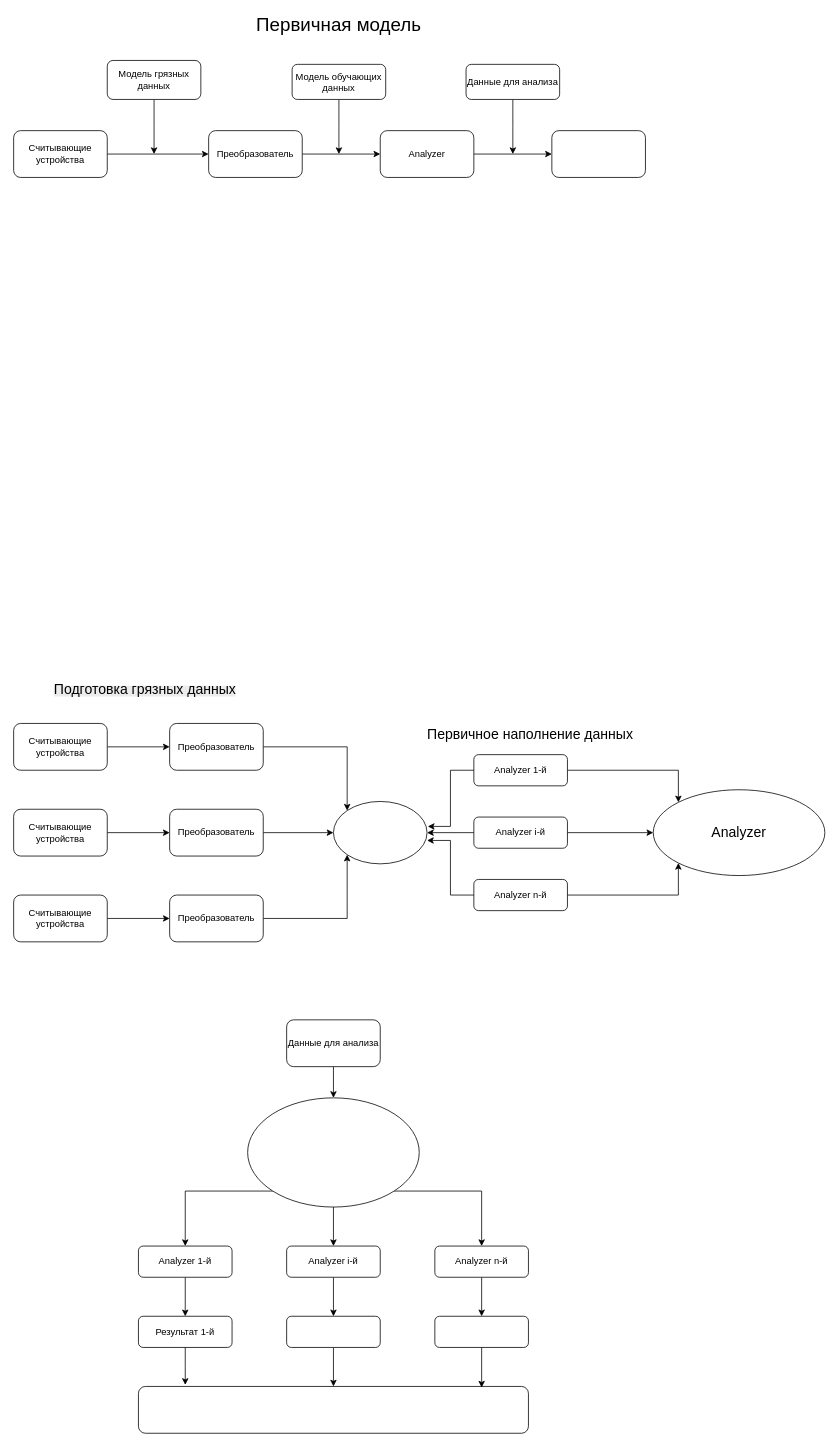
Some shapes in this 838 by 1447 pixel diagram are drawn without their labels. Each missing label, with the centre of its shape:
"Analyzer Веса: w_1 ∈ [0, 1] w_i ∈ [0, 1] w_n ∈ [0, 1]" belongs at point (333, 1152).
"База данных" belongs at point (380, 832).
"Результат" belongs at point (598, 153).
"Результат = ∑ (w_i * результат i-й) Итоговый результат = Min(Результат, 100)" belongs at point (333, 1409).
"Результат i-й" belongs at point (333, 1331).
"Результат n-й" belongs at point (481, 1331).
